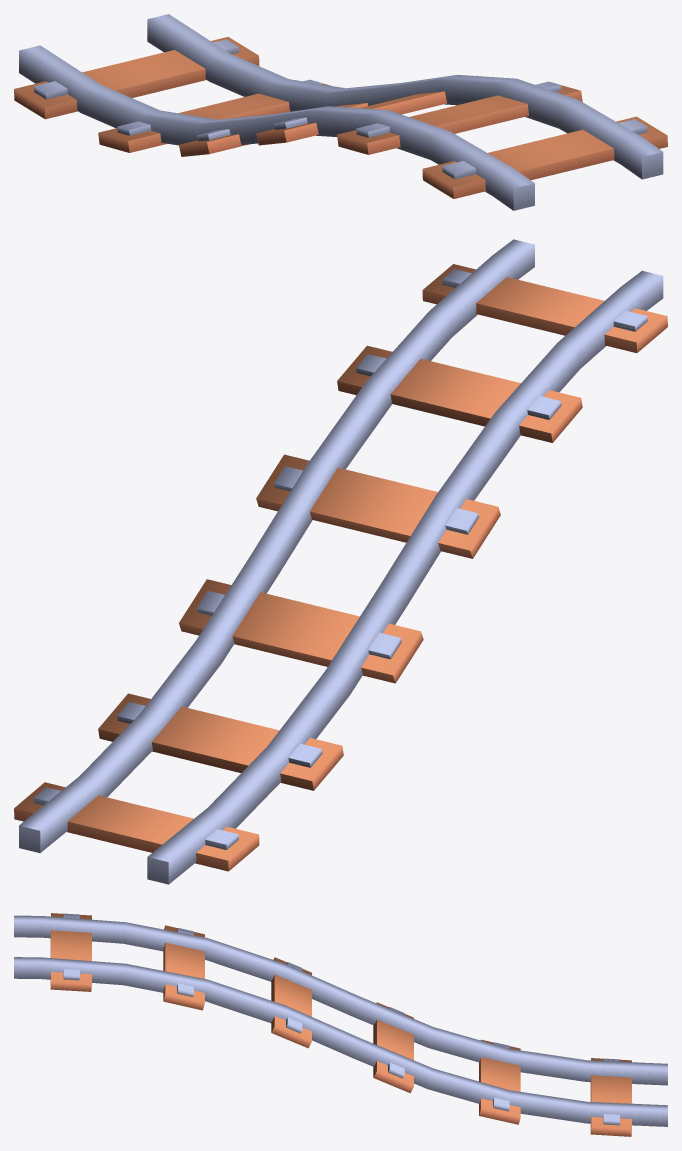
Rendered from railroad-straight-hill-complete.glb.
The picture shows the model from 3 angles, top to bottom: view 1: azimuth 30°, elevation 25°; view 2: azimuth 150°, elevation 25°; view 3: azimuth 270°, elevation 25°; orthographic projection. The views are drawn at different scales.
Visible parts, largest first — view 1: railroad-straight-hill-complete; view 2: railroad-straight-hill-complete; view 3: railroad-straight-hill-complete.
Boxes of the visible parts, x1=… form: railroad-straight-hill-complete: x1=14, y1=14, x2=667, y2=210; railroad-straight-hill-complete: x1=14, y1=239, x2=667, y2=884; railroad-straight-hill-complete: x1=14, y1=913, x2=667, y2=1136.
Bounding box in the file's own units: 1 × 1.1 × 4.
1 material, 1 textured.
